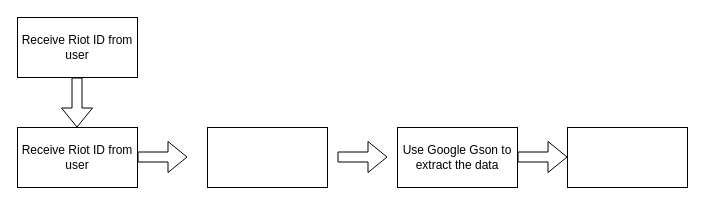
This 705x205 diagram has some shape labels left out. Here are the shapes that lost their labels. From the top down, the centre of each, then its label:
At pixel 267 157: "Use HTTP to access Riot API".
At pixel 627 157: "Return the data to the user in a readable format".
